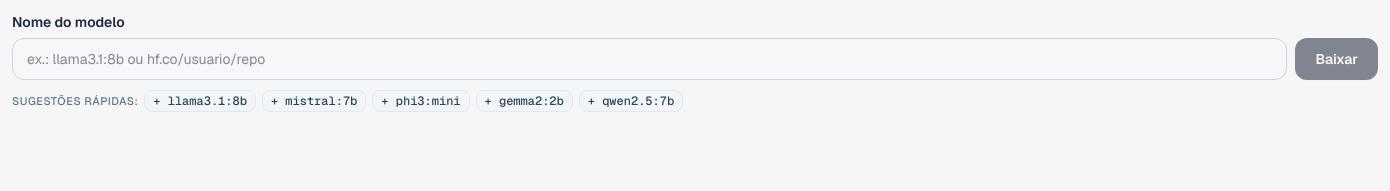
it: PullModelForm › status 'error' para o polling e mostra a mensagem
Step 1. Type "nome-invalido" into the field labelled "Nome do modelo" → (650, 59), box 12,38 -> 1287,80
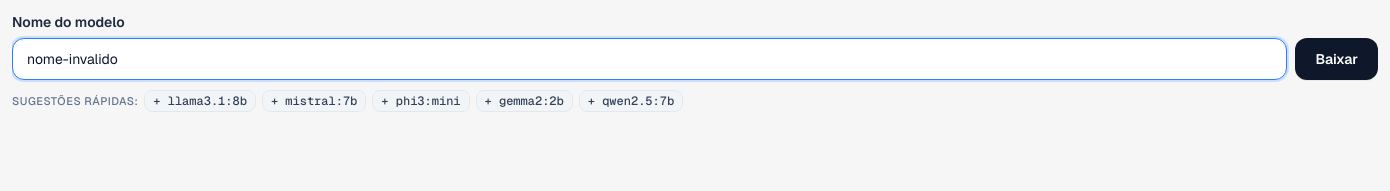
Step 2. Click the button "Baixar" → (1337, 59), box 1295,38 -> 1378,80
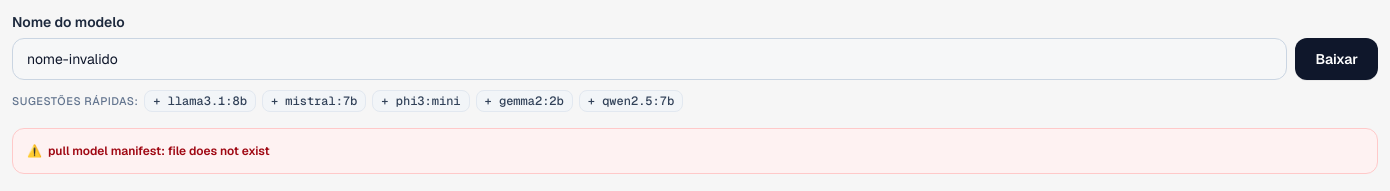
Expected: the text "pull model manifest: file does not exist" is shown, 48,143 -> 270,159
